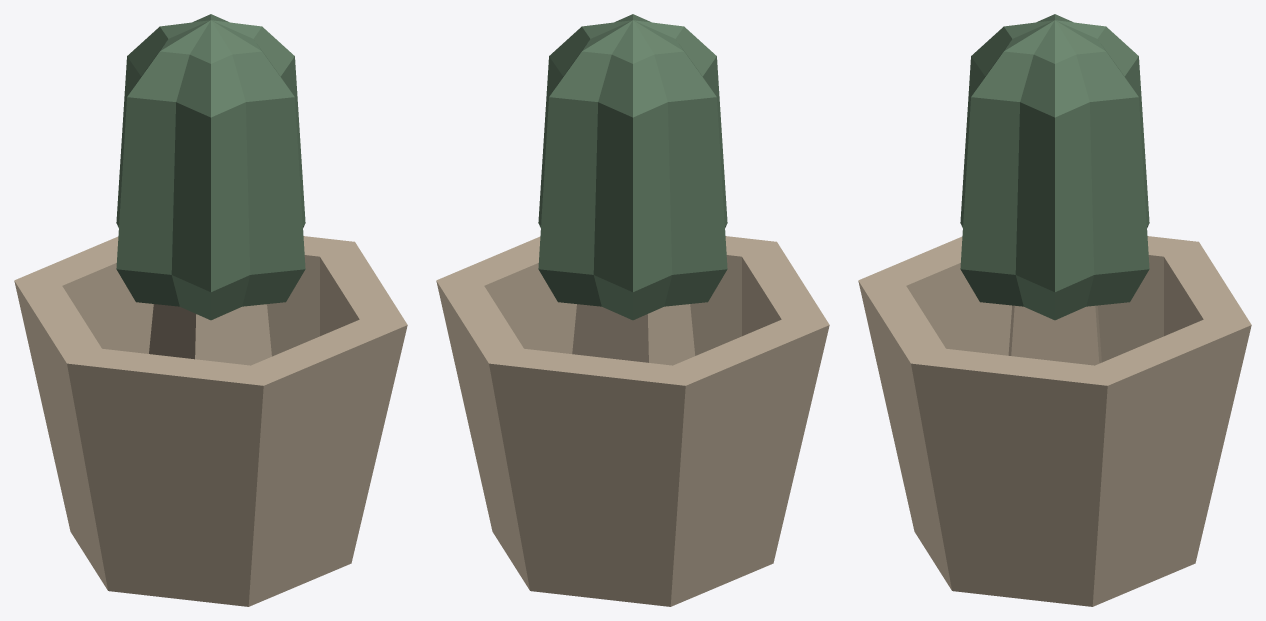
Rendered from plant.glb.
3 views of the same model, side by side, from view 1: azimuth 30°, elevation 25°; view 2: azimuth 150°, elevation 25°; view 3: azimuth 270°, elevation 25° (orthographic).
Visible parts, largest first — view 1: plantSmall2(Clone); view 2: plantSmall2(Clone); view 3: plantSmall2(Clone).
Boxes of the visible parts, box(x1,y1,x2,y2) form: plantSmall2(Clone): box(14, 14, 407, 606); plantSmall2(Clone): box(436, 14, 829, 606); plantSmall2(Clone): box(858, 14, 1251, 606).
Bounding box in the file's own units: 0.2028 × 0.3 × 0.2028.
